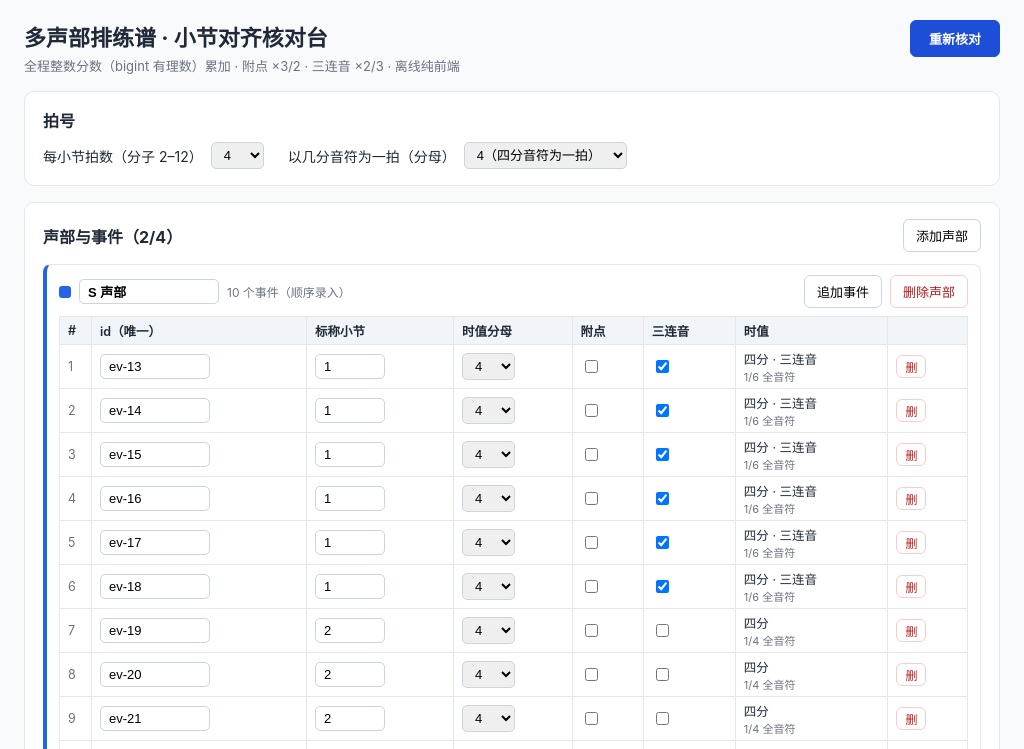
Test: 核对台集成：编辑撤销旧结论 › 修改拍号同样使旧结论失效
The width and height of the screenshot is (1024, 749).
Select "3" in the dropdown named "拍号分子" at coordinates (237, 156), box [211, 142, 264, 169]
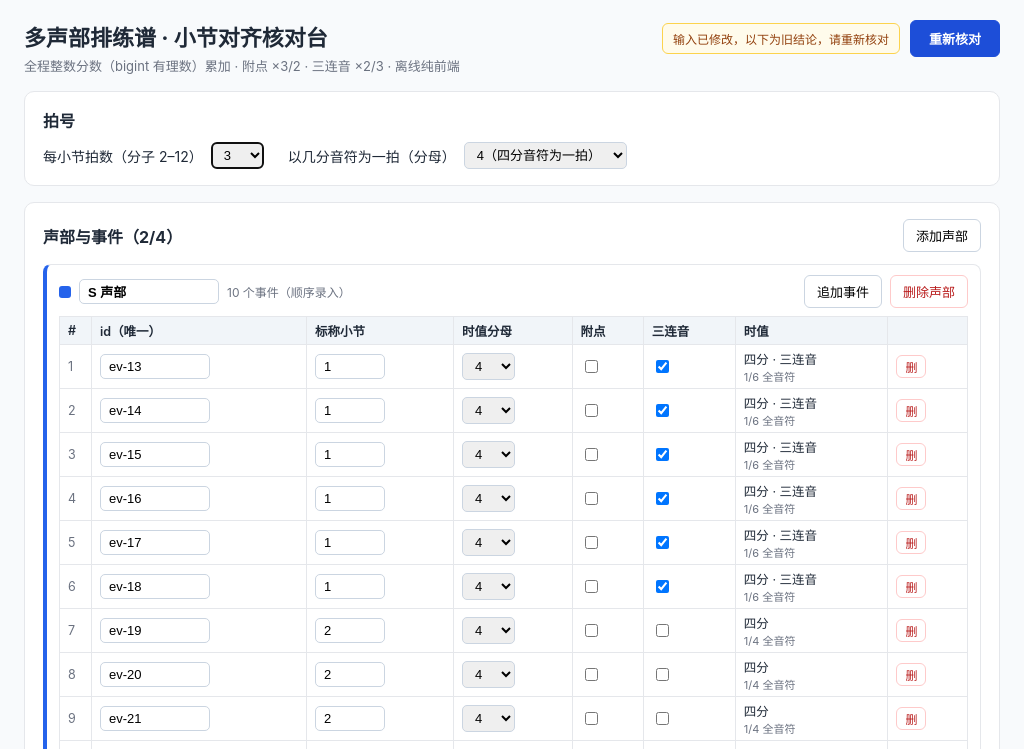
Result: the text "输入已修改，以下为旧结论，请重新核对" is shown at [662, 23, 900, 54]
Click the button with test id "run-check" at coordinates (955, 38), box [910, 20, 1000, 57]
(page scrolled)
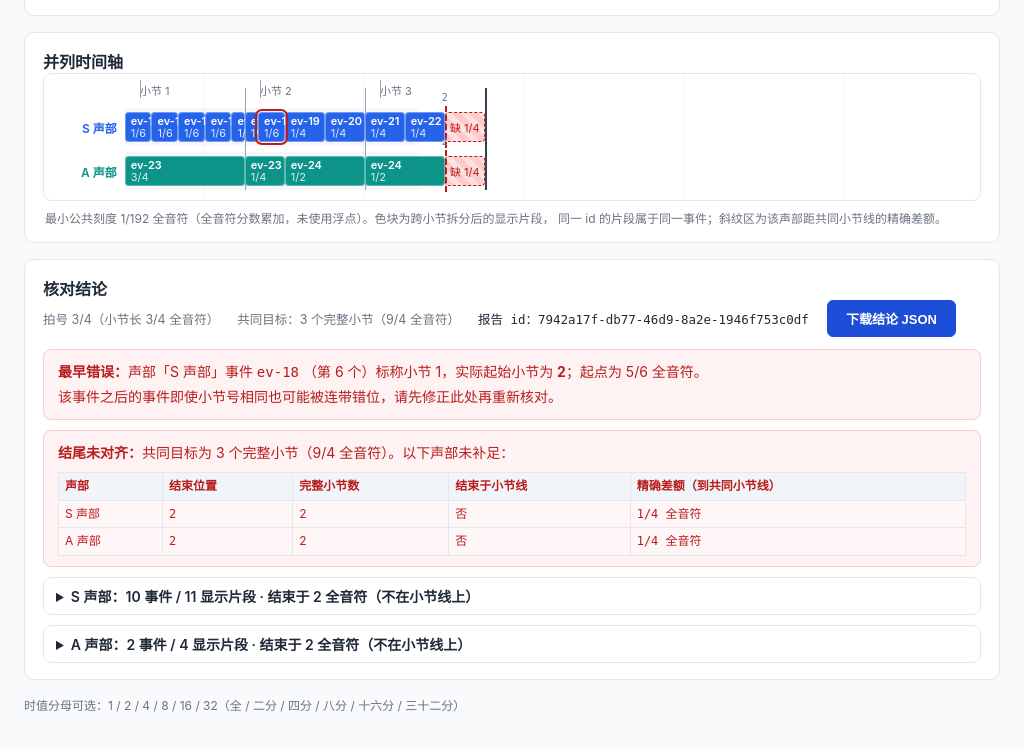
Result: the text with test id "stale-badge" is gone
Result: the element with test id "first-error-card" shows "最早错误" at [58, 363, 128, 380]
